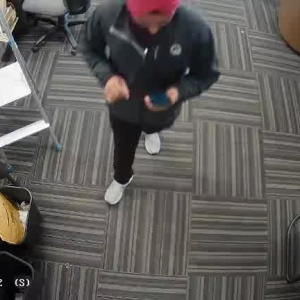person: (89, 0, 210, 207)
